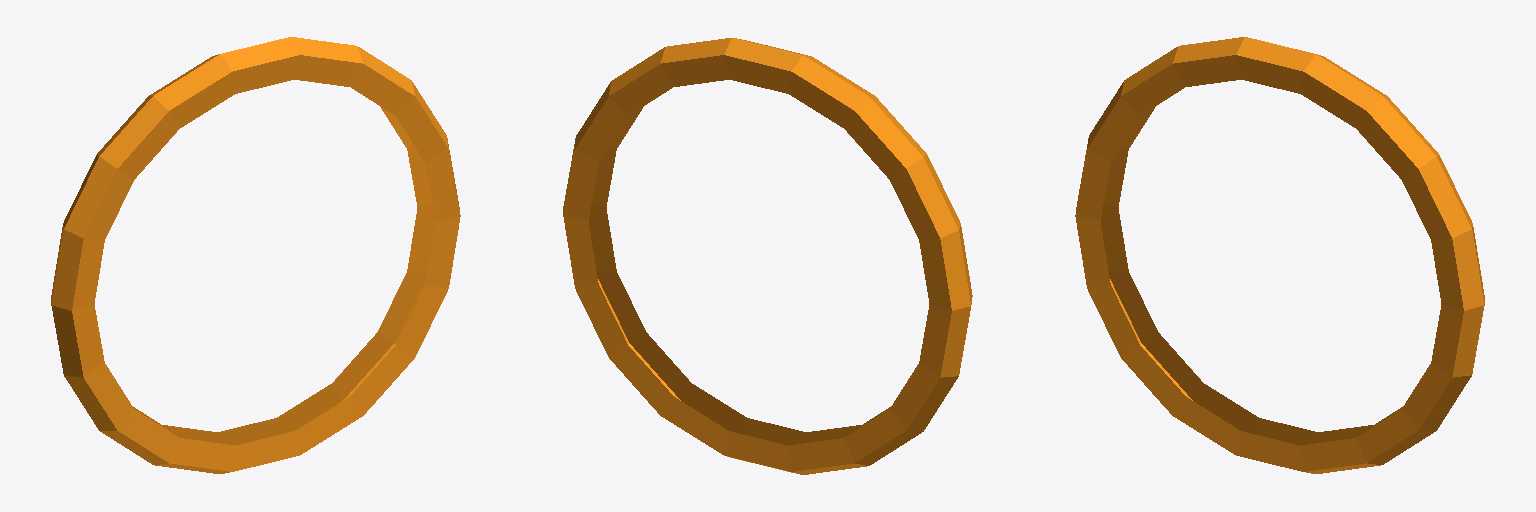
File: model_quest_questring.obj
3 views of the same model, side by side, from view 1: azimuth 30°, elevation 25°; view 2: azimuth 150°, elevation 25°; view 3: azimuth 330°, elevation 25° (orthographic).
Visible parts, largest first — view 1: pCylinder1; view 2: pCylinder1; view 3: pCylinder1.
Part boxes in pixels (left/top/right/bottom): pCylinder1: left=51, top=37, right=460, bottom=473; pCylinder1: left=563, top=38, right=972, bottom=474; pCylinder1: left=1075, top=37, right=1484, bottom=473.
Size of the model in its own units: 1.2 by 1.18 by 0.1047.